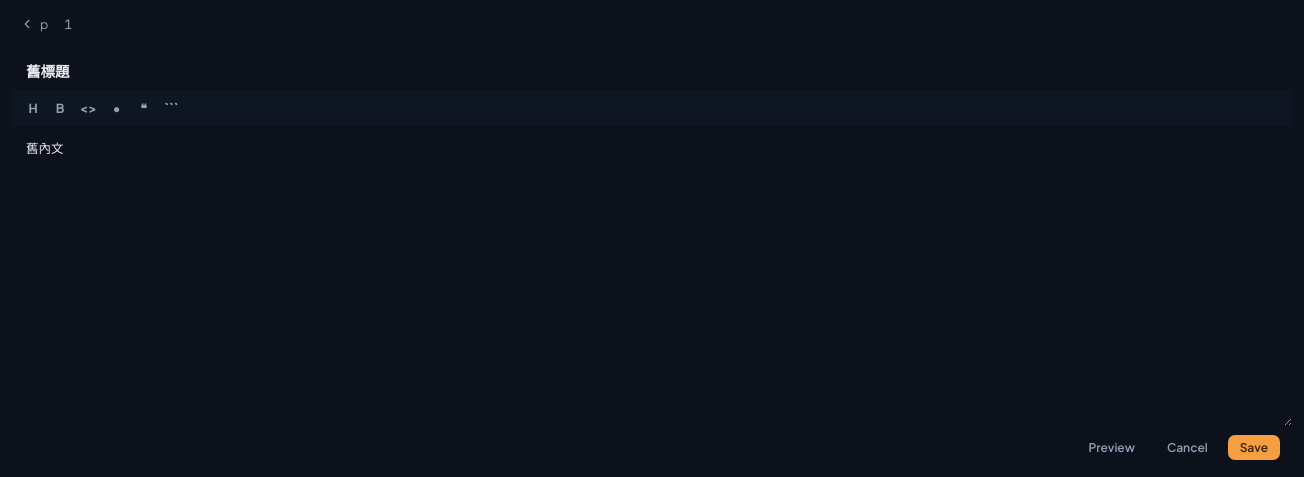
Test: TaskEditor › 儲存中鎖編輯區但返回可按；成功後回清單
Step 1. Replace the text in the text box named "Body" with "x" → x=652, y=276, box [12,126,1292,426]
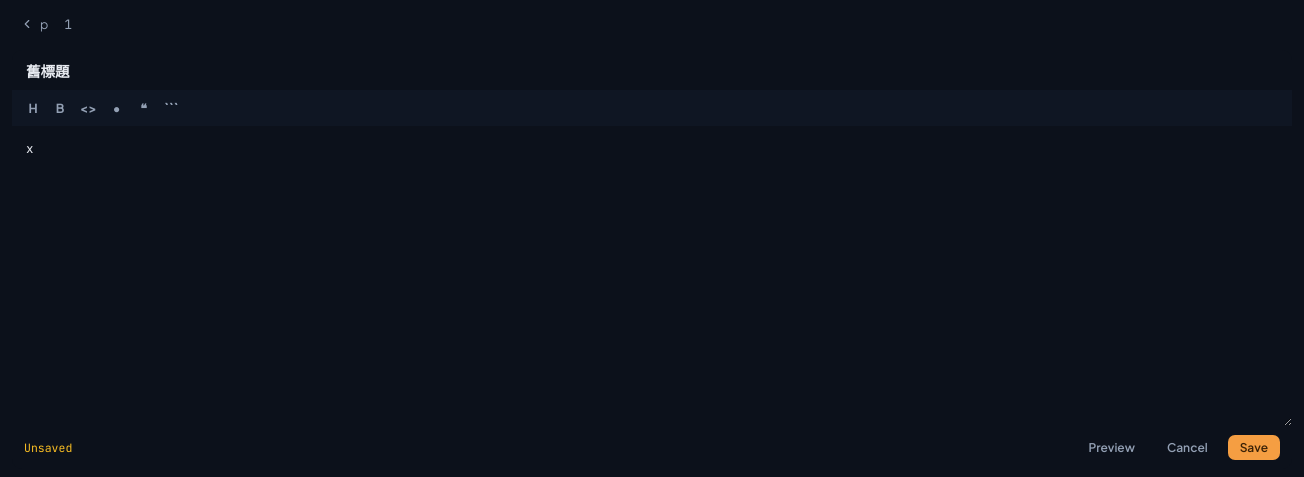
Step 2. Click the button "Save" → x=1254, y=448, box [1228,435,1280,460]
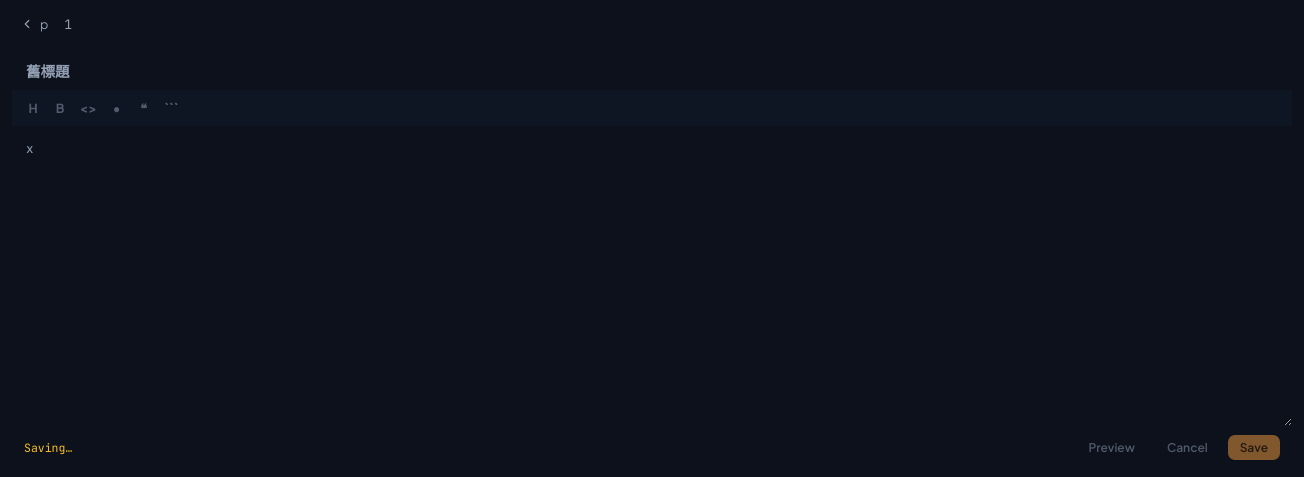
Expected: the button "p" is enabled, [14,12,54,36]
Expected: the field named "Title" is disabled, [12,50,1292,90]
Expected: the button "Save" is disabled, [1228,435,1280,460]
